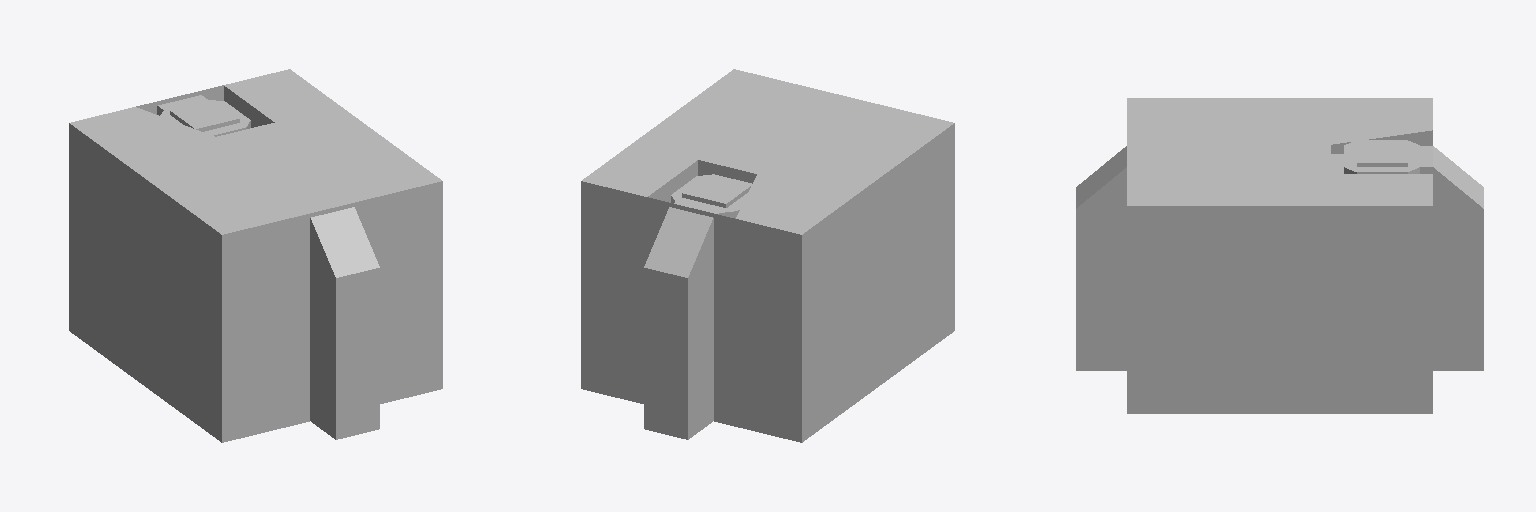
File: 12v_battery.obj
The picture shows the model from 3 angles: view 1: azimuth 30°, elevation 25°; view 2: azimuth 150°, elevation 25°; view 3: azimuth 270°, elevation 25°; orthographic projection.
Visible parts, largest first — view 1: Battery_Cube; view 2: Battery_Cube; view 3: Battery_Cube.
Part boxes in pixels (left/top/right/bottom): Battery_Cube: left=69, top=69, right=442, bottom=442; Battery_Cube: left=581, top=69, right=954, bottom=442; Battery_Cube: left=1076, top=98, right=1483, bottom=413.
Size of the model in its own units: 0.625 by 0.5625 by 1.